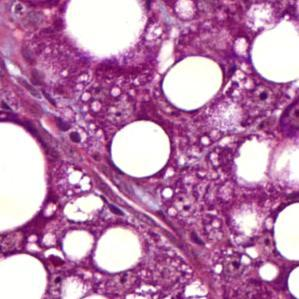steatosis: (110, 118, 171, 178), (163, 56, 227, 111)
